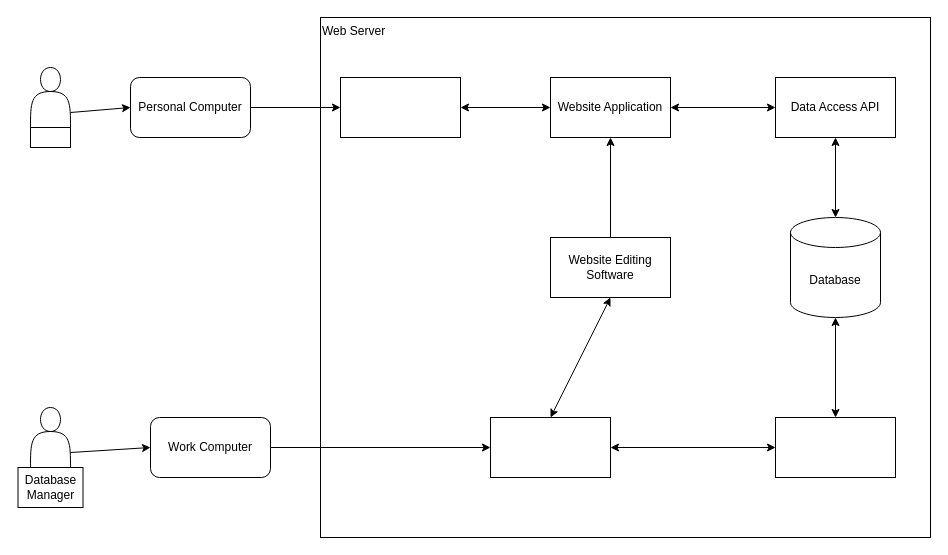
This 948x555 diagram has some shape labels left out. The shapes that lost their labels are listed below. From the top down, each one's centre as x and y in pixels, then its label:
At pixel 400 107: "User Interface Layer".
At pixel 50 137: "User".
At pixel 550 447: "Authenticated Connection Service".
At pixel 835 447: "DBMS".
